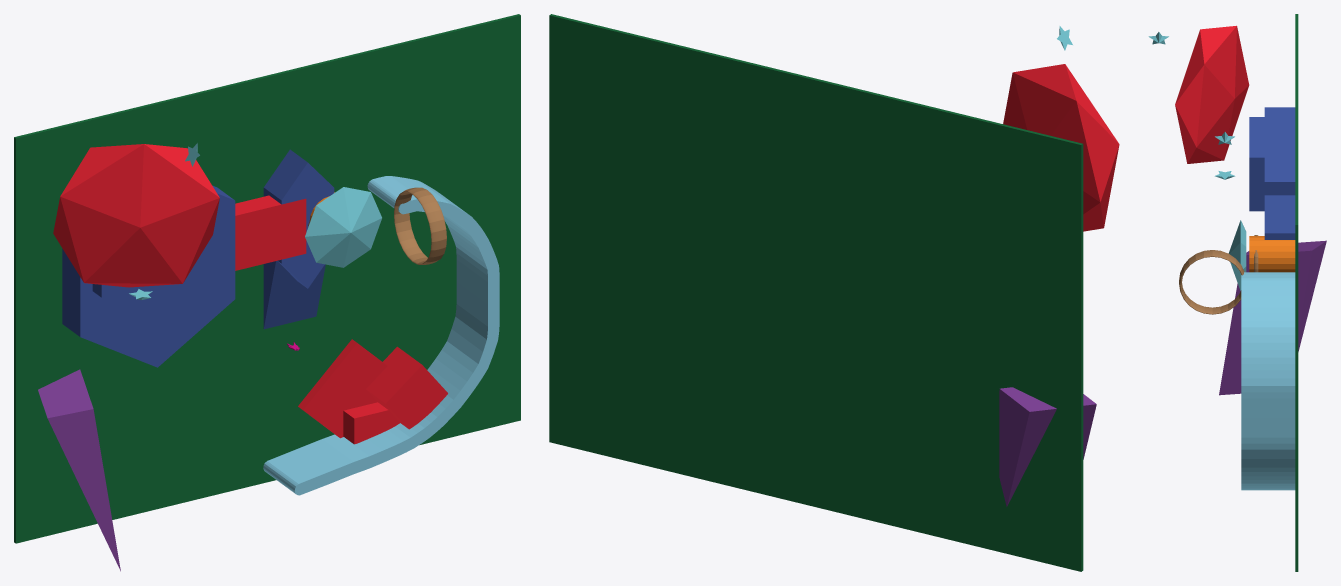
File: tinker.obj
3 views of the same model, side by side, from view 1: azimuth 30°, elevation 25°; view 2: azimuth 150°, elevation 25°; view 3: azimuth 270°, elevation 25° (orthographic). The views are drawn at different scales.
Parts seen in each view (by area): view 1: group_0_1206582, group_0_15277357, group_0_3888547, group_0_8768998, group_0_8273816, group_0_7720667, group_0_11107152; view 2: group_0_1206582, group_0_15277357, group_0_8273816; view 3: group_0_8768998, group_0_15277357, group_0_3888547, group_0_8273816, group_0_1206582, group_0_16089887, group_0_11107152, group_0_7720667.
Part boxes in pixels (x1,y1,x2,y2): group_0_1206582: (14, 14, 520, 543); group_0_15277357: (53, 144, 447, 444); group_0_3888547: (62, 149, 334, 367); group_0_8768998: (263, 176, 499, 495); group_0_8273816: (38, 369, 120, 571); group_0_7720667: (129, 143, 381, 300); group_0_11107152: (308, 187, 446, 264); group_0_1206582: (549, 14, 1083, 571); group_0_15277357: (1003, 64, 1119, 231); group_0_8273816: (999, 387, 1096, 506); group_0_8768998: (1241, 272, 1295, 490); group_0_15277357: (1175, 25, 1249, 163); group_0_3888547: (1249, 107, 1295, 239); group_0_8273816: (1219, 240, 1326, 395); group_0_1206582: (1295, 14, 1298, 571); group_0_16089887: (1249, 236, 1295, 272); group_0_11107152: (1179, 235, 1258, 314); group_0_7720667: (1148, 32, 1246, 290).
Size of the model in its own units: 163 by 137 by 58.37.
